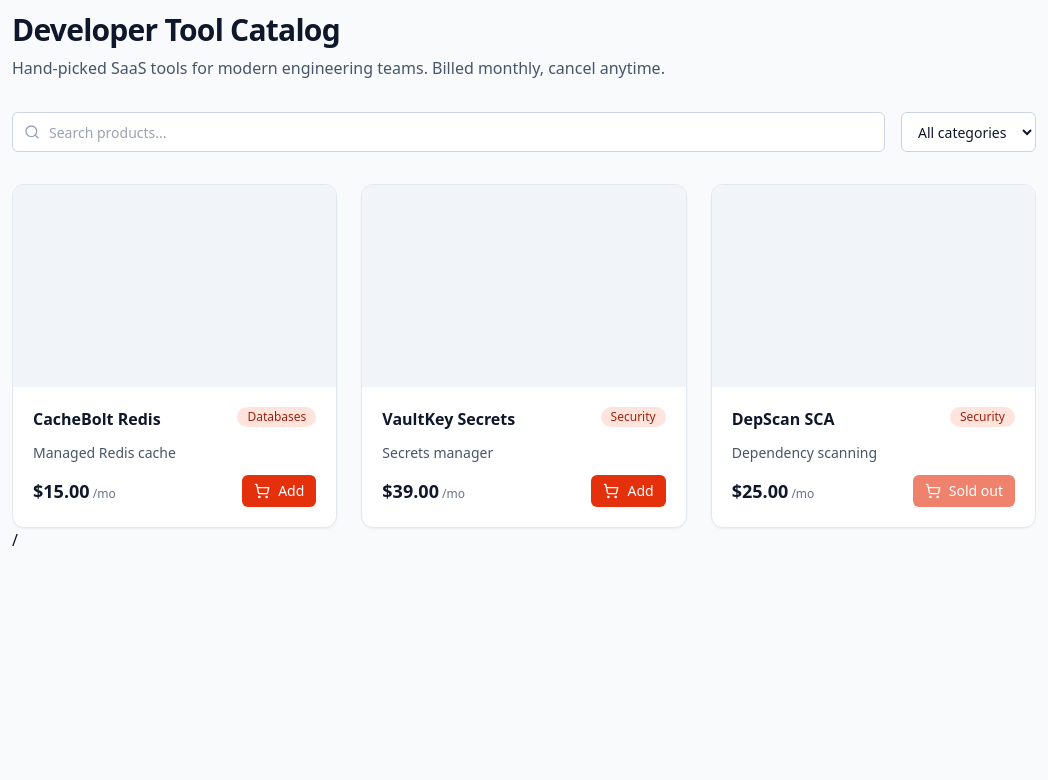
Test: Catalog page › filters by category
Expected: the link "CacheBolt Redis" is shown, [33,407,161,431]
Select "Security" in the dropdown named "filter by category" at (968,132), box [901,112,1036,152]
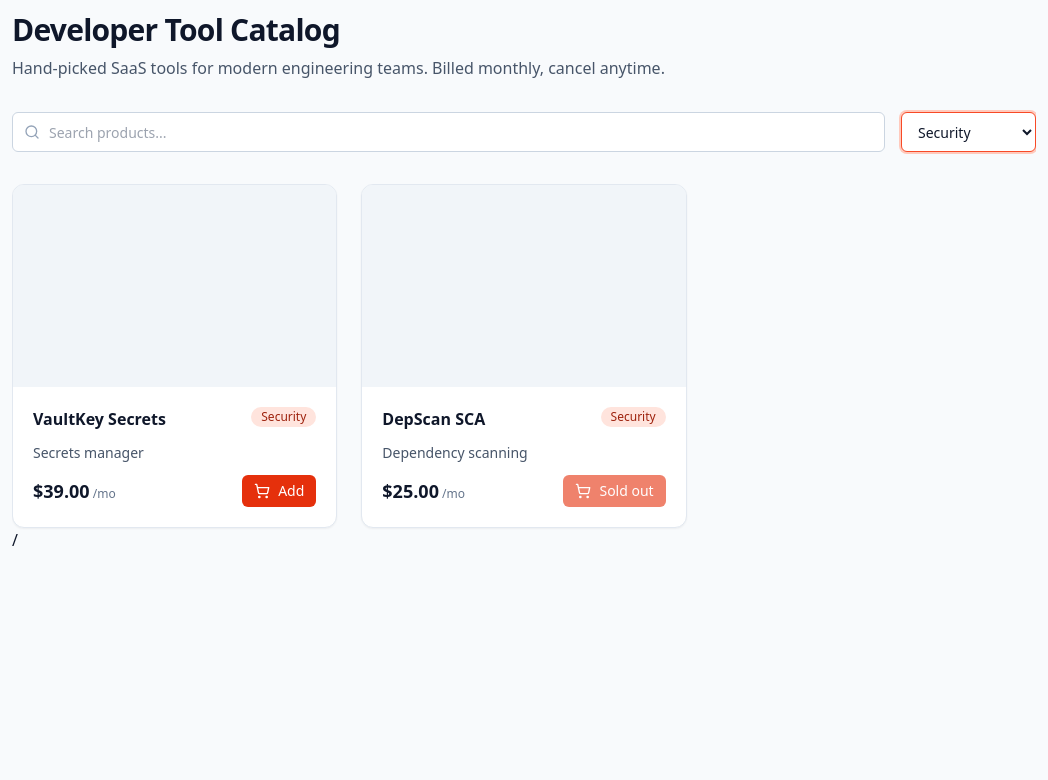
Expected: the link "VaultKey Secrets" is shown, [33,407,166,431]
Result: the link "CacheBolt Redis" is gone
